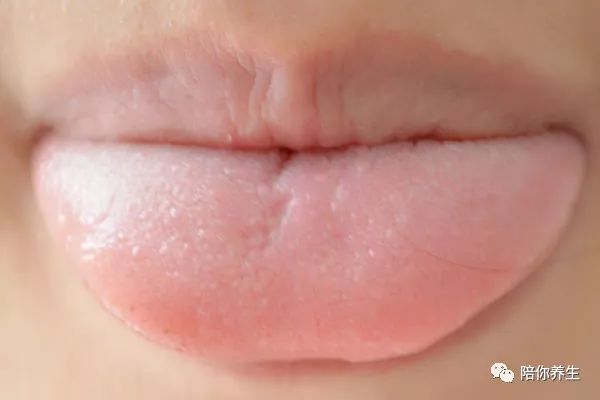baitaishe: (33, 138, 584, 359)
liewenshe: (255, 150, 296, 251)
